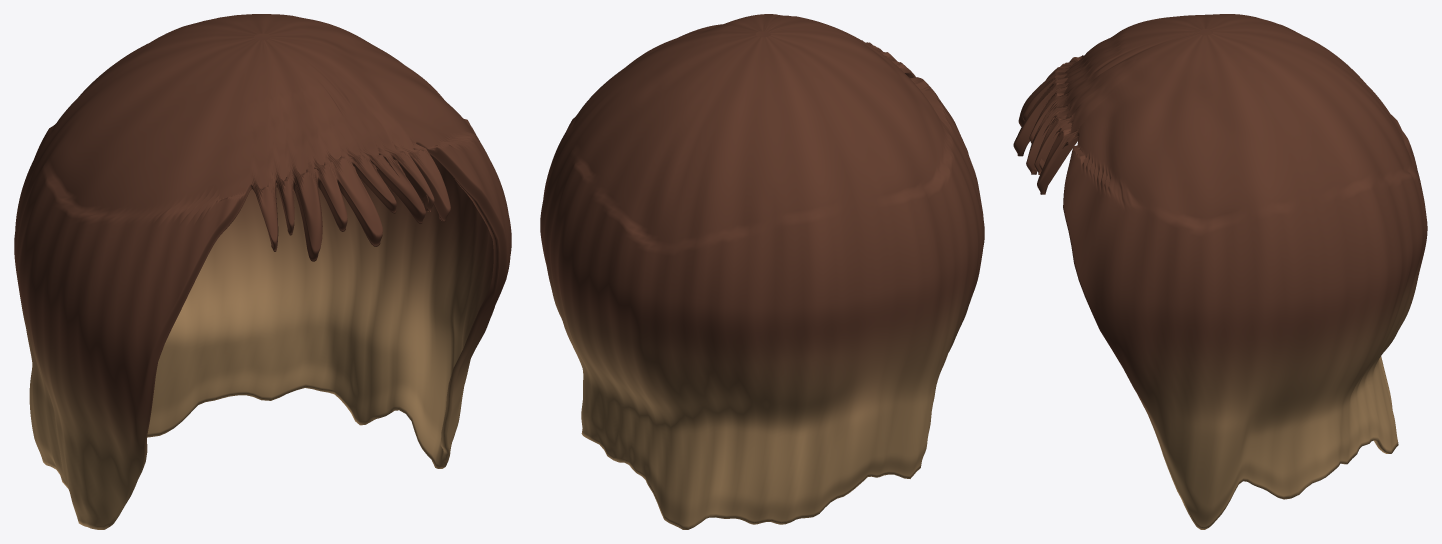
File: side-sweep-headband-ombre.glb
The picture shows the model from 3 angles, left to right: view 1: azimuth 30°, elevation 25°; view 2: azimuth 150°, elevation 25°; view 3: azimuth 270°, elevation 25°; orthographic projection. The views are drawn at different scales.
Visible parts, largest first — view 1: Hair / layered lob; view 2: Hair / layered lob; view 3: Hair / layered lob.
Part boxes in pixels (x1,y1,x2,y2): Hair / layered lob: (14, 14, 511, 529); Hair / layered lob: (540, 14, 984, 529); Hair / layered lob: (1013, 14, 1427, 529).
Bounding box in the file's own units: 0.8388 × 0.8786 × 0.782.
